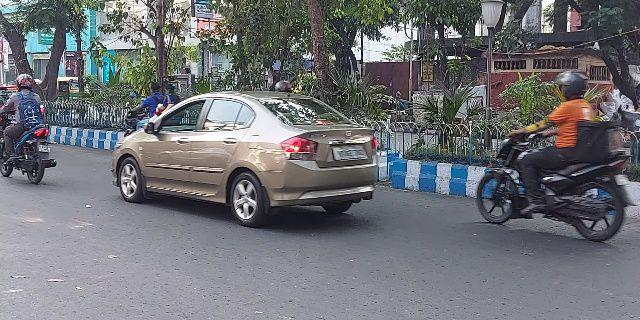Car: (108, 88, 380, 229)
Motorbike: (472, 70, 626, 245), (1, 77, 58, 183)
